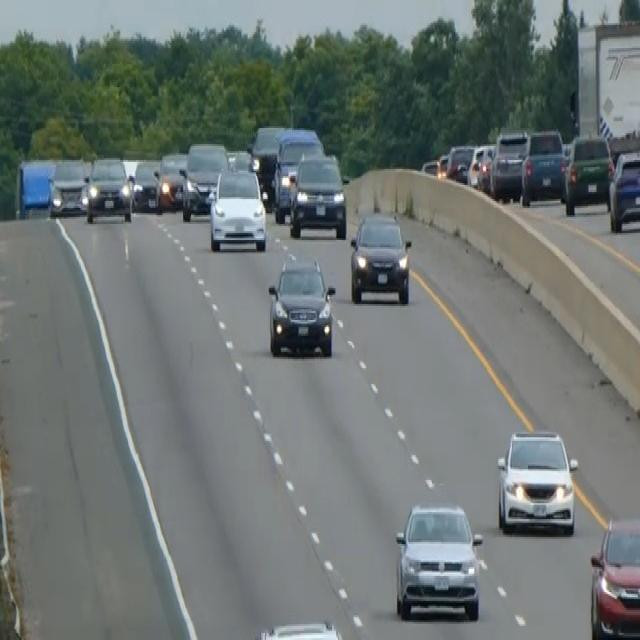car: (393, 500, 483, 620), (495, 427, 578, 535), (589, 514, 639, 638), (349, 208, 412, 304), (288, 151, 348, 238), (208, 165, 267, 252), (272, 126, 324, 222), (562, 132, 613, 214), (248, 601, 352, 638), (181, 140, 228, 220), (520, 126, 565, 204), (84, 155, 132, 222), (249, 123, 285, 205), (489, 128, 528, 201), (608, 147, 639, 233), (49, 156, 88, 217), (253, 617, 346, 638), (156, 149, 187, 210), (131, 158, 160, 212), (467, 142, 494, 190), (445, 142, 474, 183), (227, 148, 253, 172), (420, 156, 443, 178)
jeep: (266, 256, 337, 357)
lorry: (572, 16, 639, 156), (14, 154, 57, 218)
